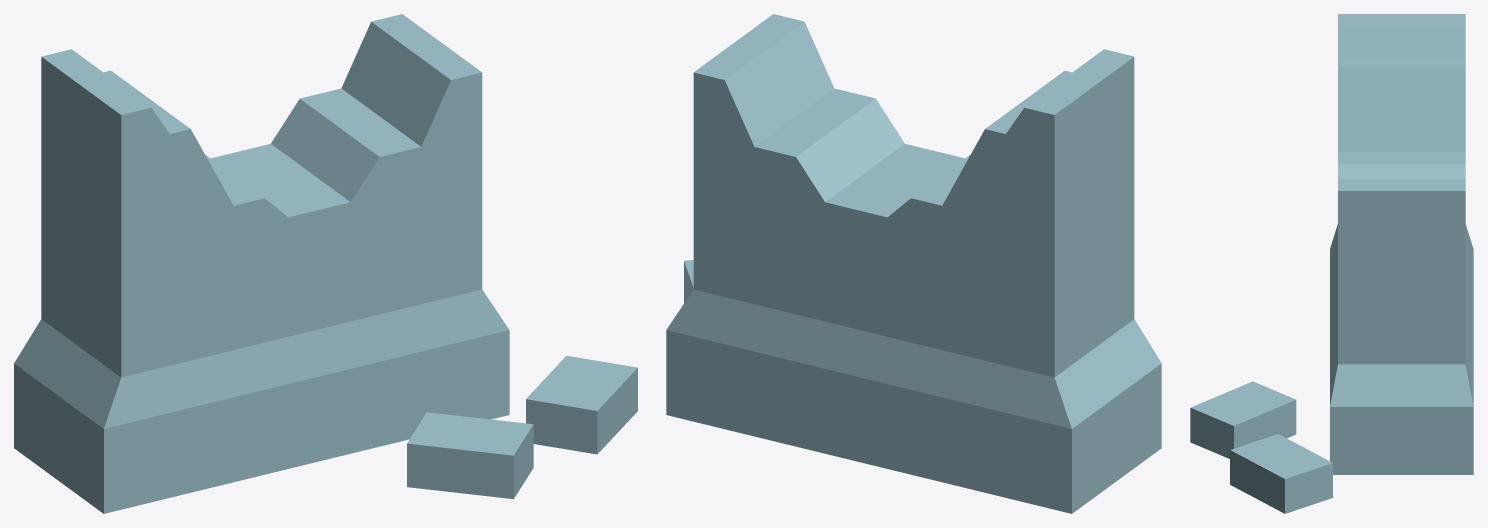
The model's file is gravestoneBroken.obj.
The picture shows the model from 3 angles, left to right: view 1: azimuth 30°, elevation 25°; view 2: azimuth 150°, elevation 25°; view 3: azimuth 270°, elevation 25°; orthographic projection. The views are drawn at different scales.
Visible parts, largest first — view 1: gravestoneBroken; view 2: gravestoneBroken; view 3: gravestoneBroken.
Boxes of the visible parts, x1=… form: gravestoneBroken: x1=14, y1=14, x2=637, y2=513; gravestoneBroken: x1=666, y1=14, x2=1161, y2=513; gravestoneBroken: x1=1190, y1=14, x2=1473, y2=513.
Size of the model in its own units: 0.4864 by 0.3581 by 0.2949.
